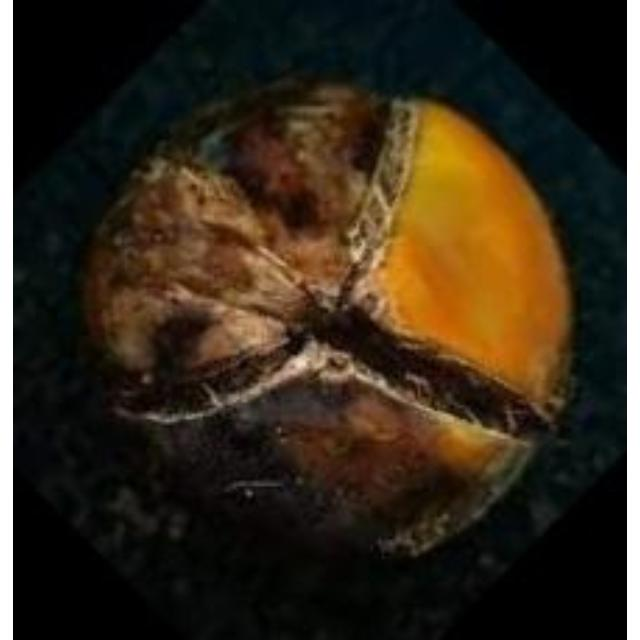damaged: (80, 75, 569, 556)
